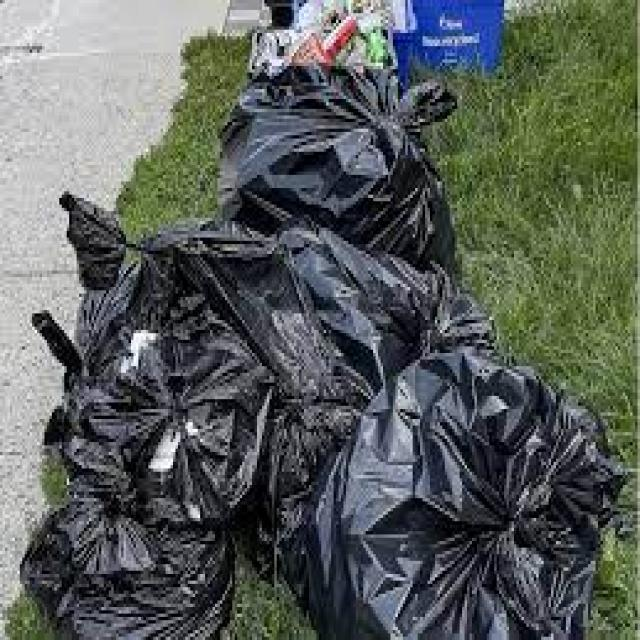garbage: (67, 208, 450, 637), (382, 346, 600, 637), (228, 0, 448, 264)
